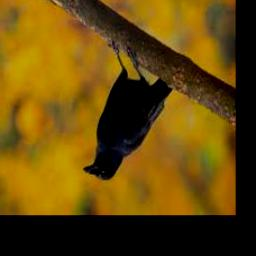Crow: (83, 39, 174, 181)
